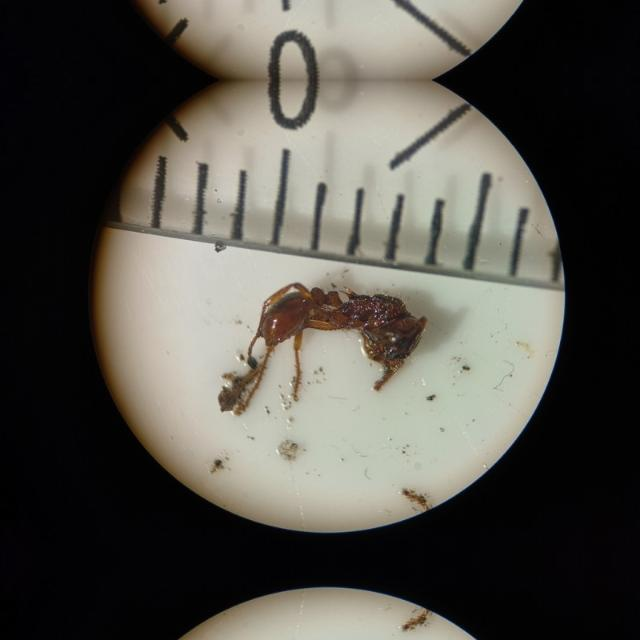Myrmica: (248, 265, 430, 379)
